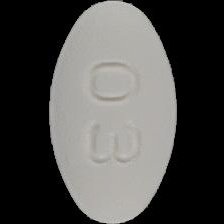50090-2079: (0, 0, 224, 224)
